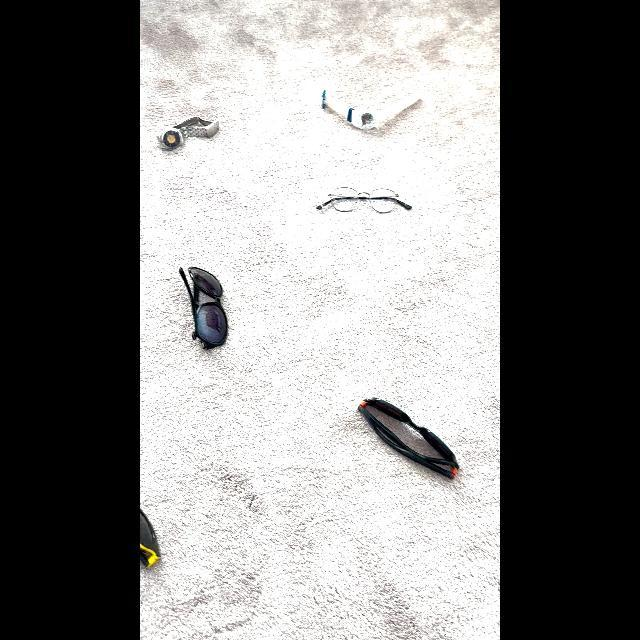eyewear: (350, 389, 472, 487), (176, 260, 240, 356), (313, 182, 423, 226)
